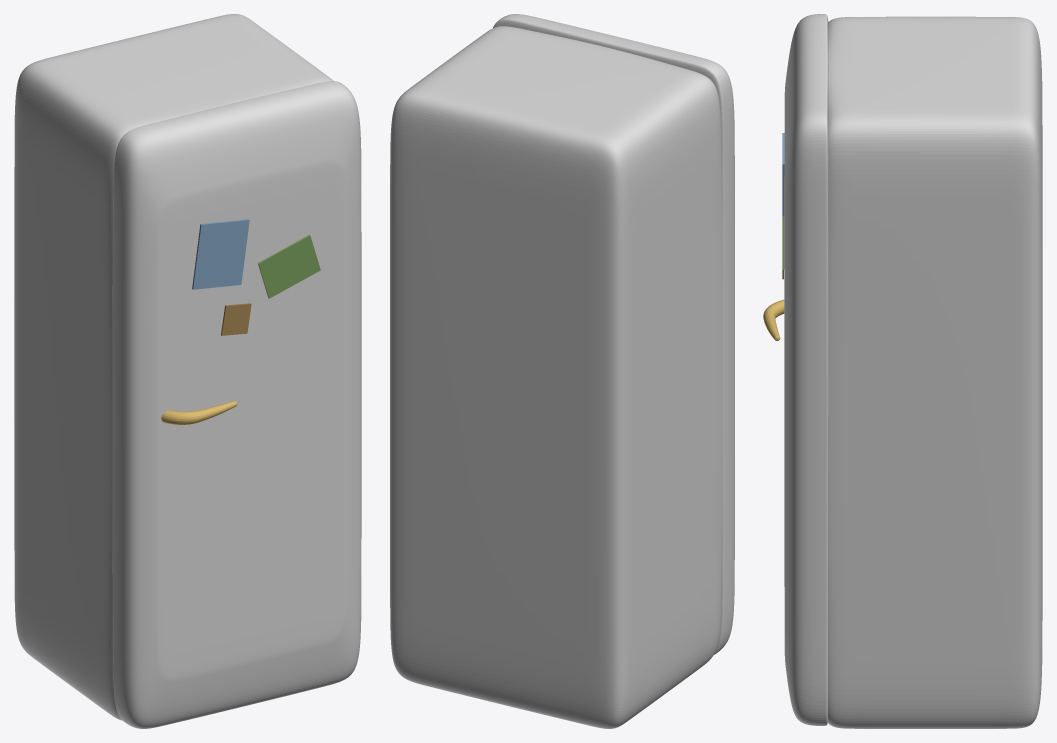
The model's file is nevera.fbx.
3 views of the same model, side by side, from view 1: azimuth 30°, elevation 25°; view 2: azimuth 150°, elevation 25°; view 3: azimuth 270°, elevation 25° (orthographic). The views are drawn at different scales.
Visible parts, largest first — view 1: nevera.001, nevera, FOTOS NEVERA, Torus; view 2: nevera, nevera.001; view 3: nevera, nevera.001, Torus.
Boxes of the visible parts, bbox=[...] form: nevera.001: bbox=[112, 81, 361, 728]; nevera: bbox=[14, 14, 333, 720]; FOTOS NEVERA: bbox=[192, 219, 320, 335]; Torus: bbox=[161, 401, 237, 424]; nevera: bbox=[390, 26, 722, 728]; nevera.001: bbox=[493, 14, 734, 654]; nevera: bbox=[827, 16, 1042, 728]; nevera.001: bbox=[784, 14, 828, 725]; Torus: bbox=[763, 299, 784, 340].
Bounding box in the file's own units: 220 × 535 × 222.
